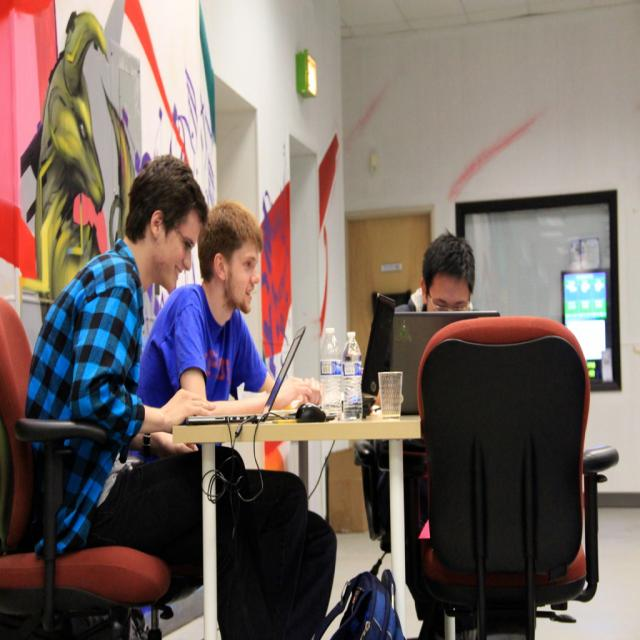chair: (411, 318, 593, 632)
desk: (170, 403, 456, 639)
mouse: (296, 403, 327, 422)
person: (23, 156, 286, 629), (361, 228, 501, 614), (138, 200, 310, 414)
